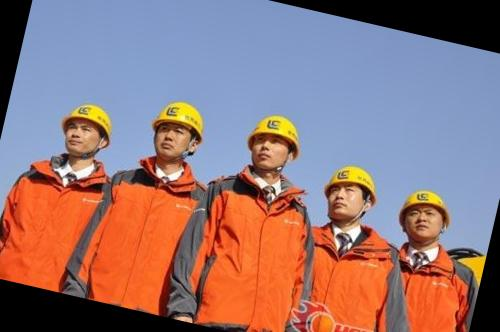helmet: (148, 94, 210, 141), (322, 157, 383, 199), (247, 108, 306, 150), (60, 96, 120, 136), (400, 184, 452, 220)
wear: (64, 160, 234, 326), (166, 160, 329, 332), (0, 141, 119, 299), (282, 216, 404, 332), (366, 250, 481, 332)
